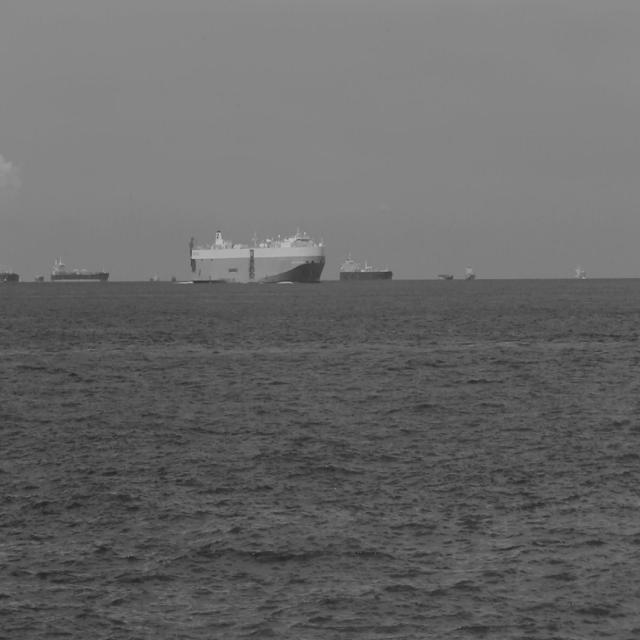ship: (188, 226, 326, 286), (50, 254, 110, 286), (339, 254, 393, 283), (0, 264, 20, 286), (464, 264, 476, 282), (574, 262, 586, 280), (34, 268, 45, 286), (437, 272, 454, 282), (149, 272, 160, 284), (2, 276, 8, 283)
